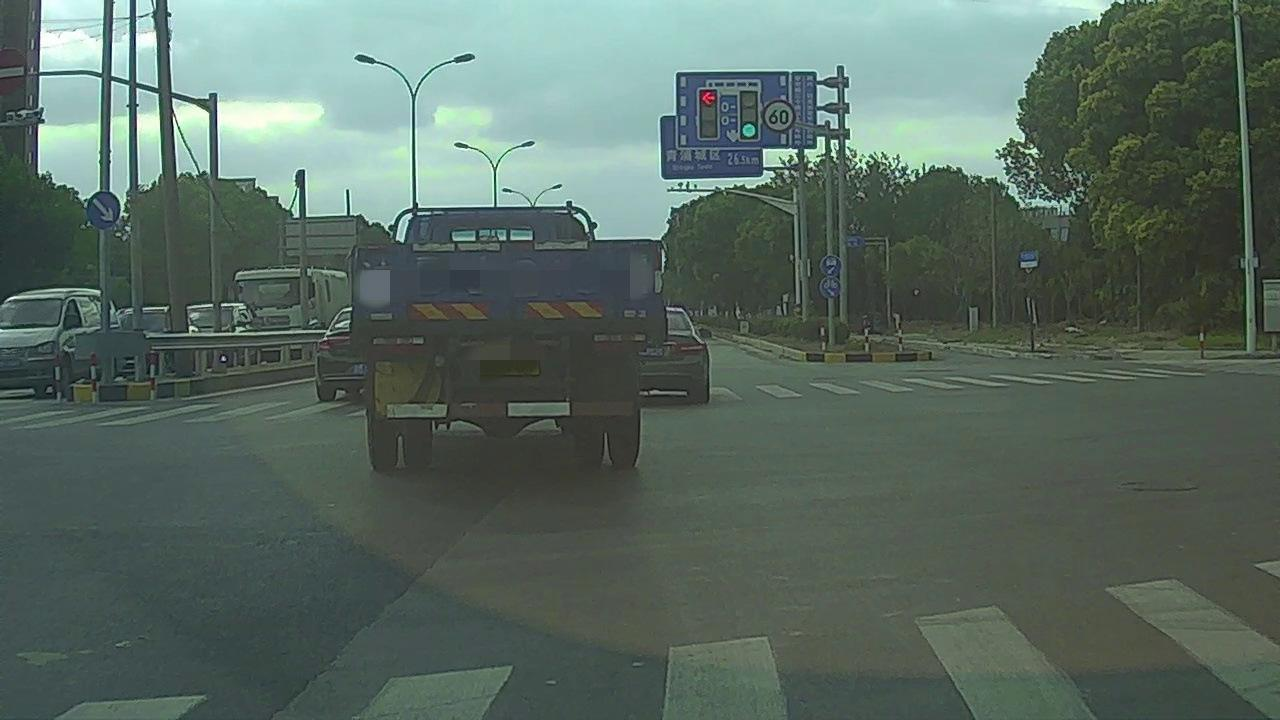traffic_light: (739, 90, 758, 142), (698, 89, 717, 139)
